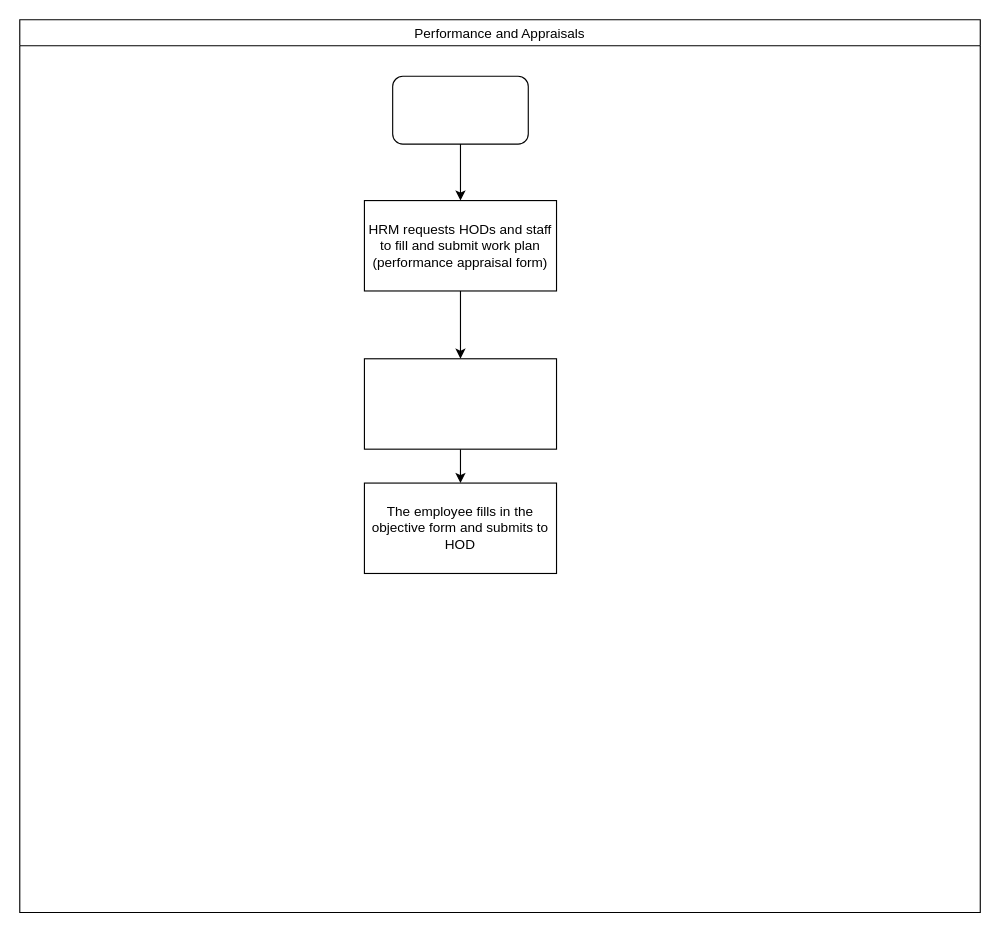
Some shapes in this 1000 by 932 pixel diagram are drawn without their labels. Here are the shapes that lost their labels. From the top down, the centre of each, then its label:
At (460,109): "Start".
At (460,403): "HODs notifies staff to fill in objectives forms as per departments workplan".
